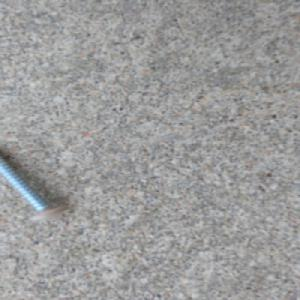Screw: (0, 147, 72, 223)
